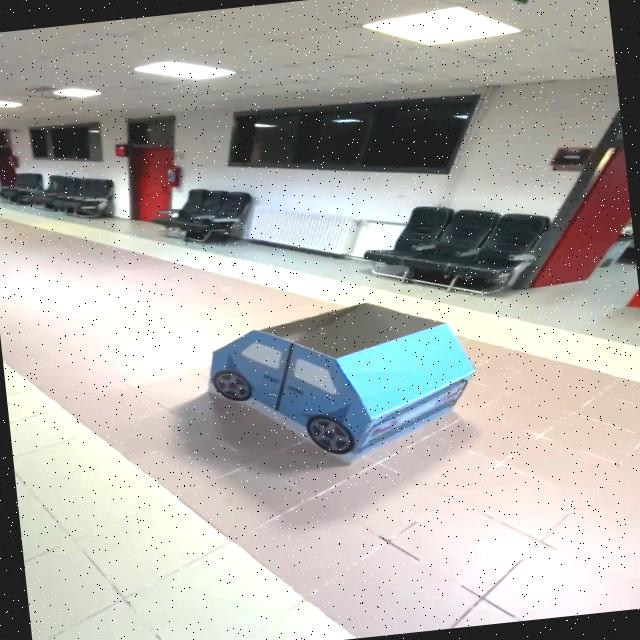blue_car: (142, 274, 521, 498)
